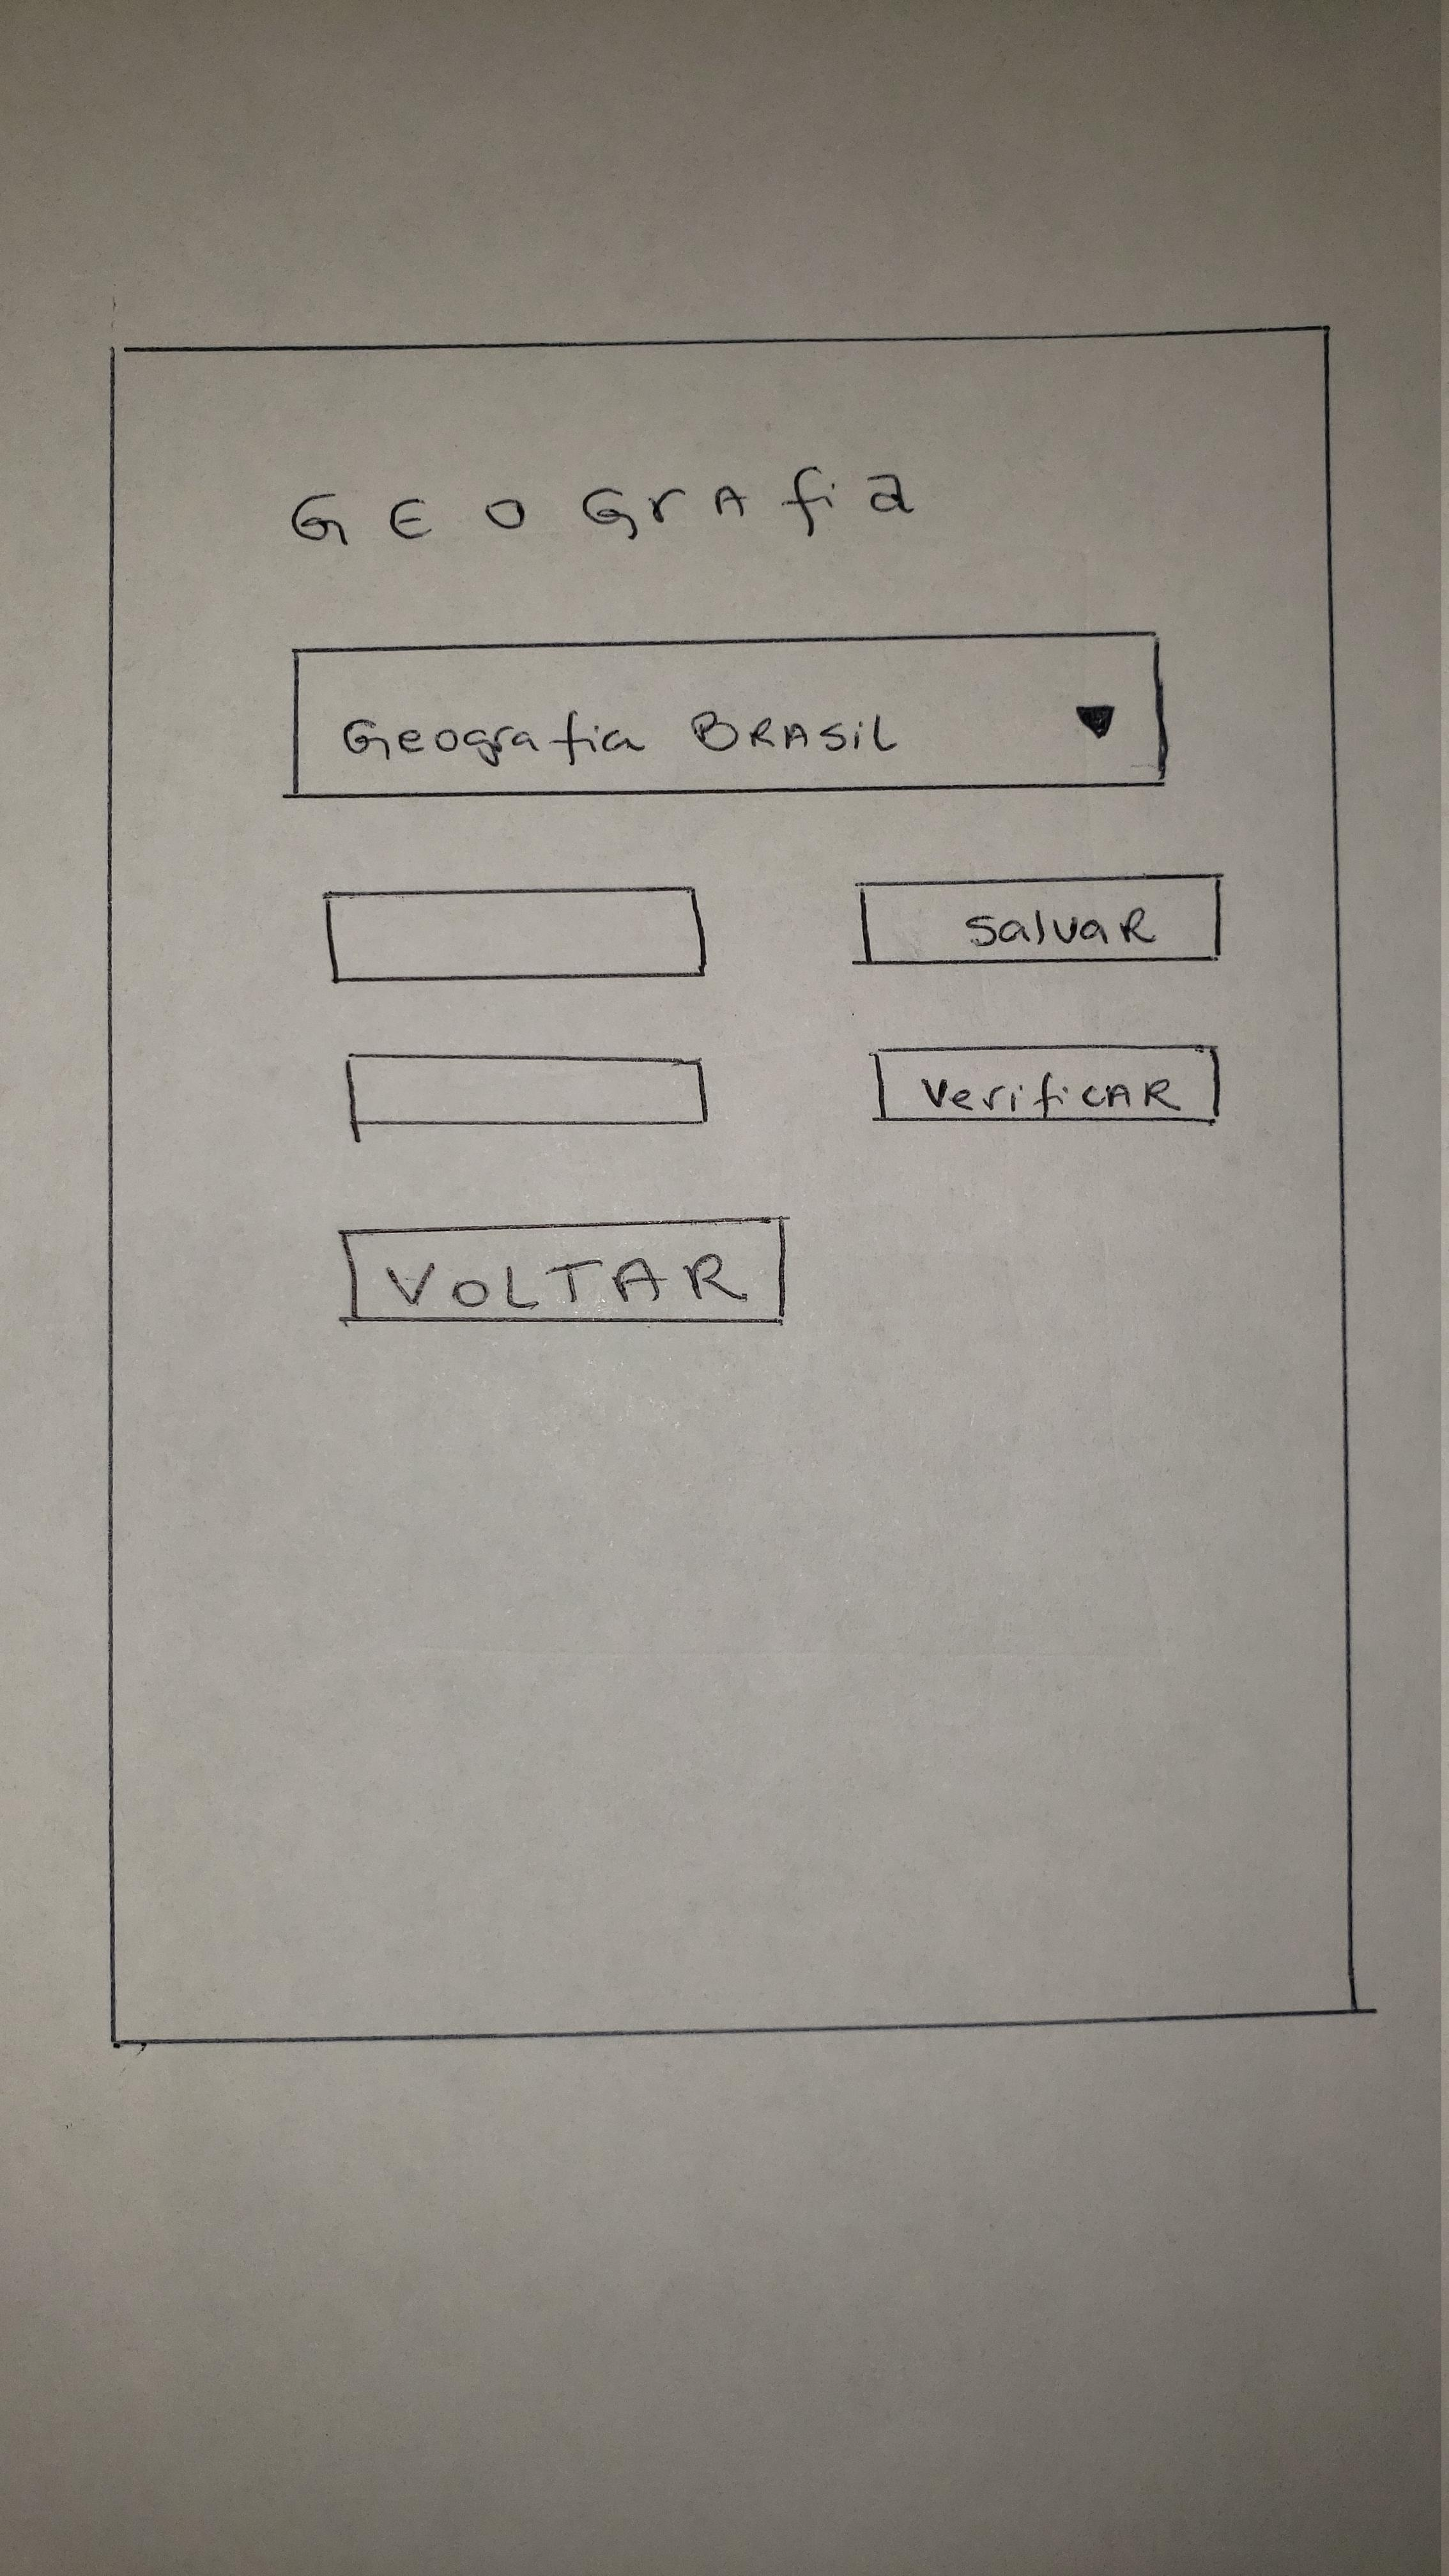Button: (340, 1215, 786, 1322), (863, 874, 1223, 968), (872, 1044, 1219, 1123)
Label: (288, 462, 913, 552)
ListPicker: (287, 630, 1168, 800)
Screen: (106, 324, 1359, 2047)
TextBox: (324, 885, 708, 978), (345, 1053, 708, 1125)
